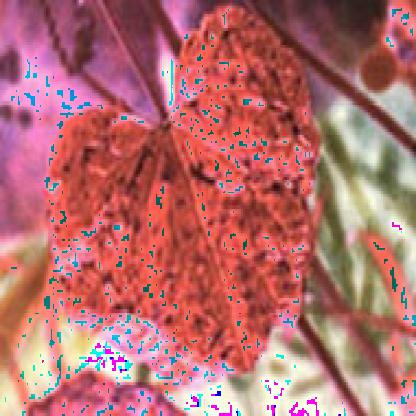tomato leaf mosaic virus: (50, 25, 317, 382)
